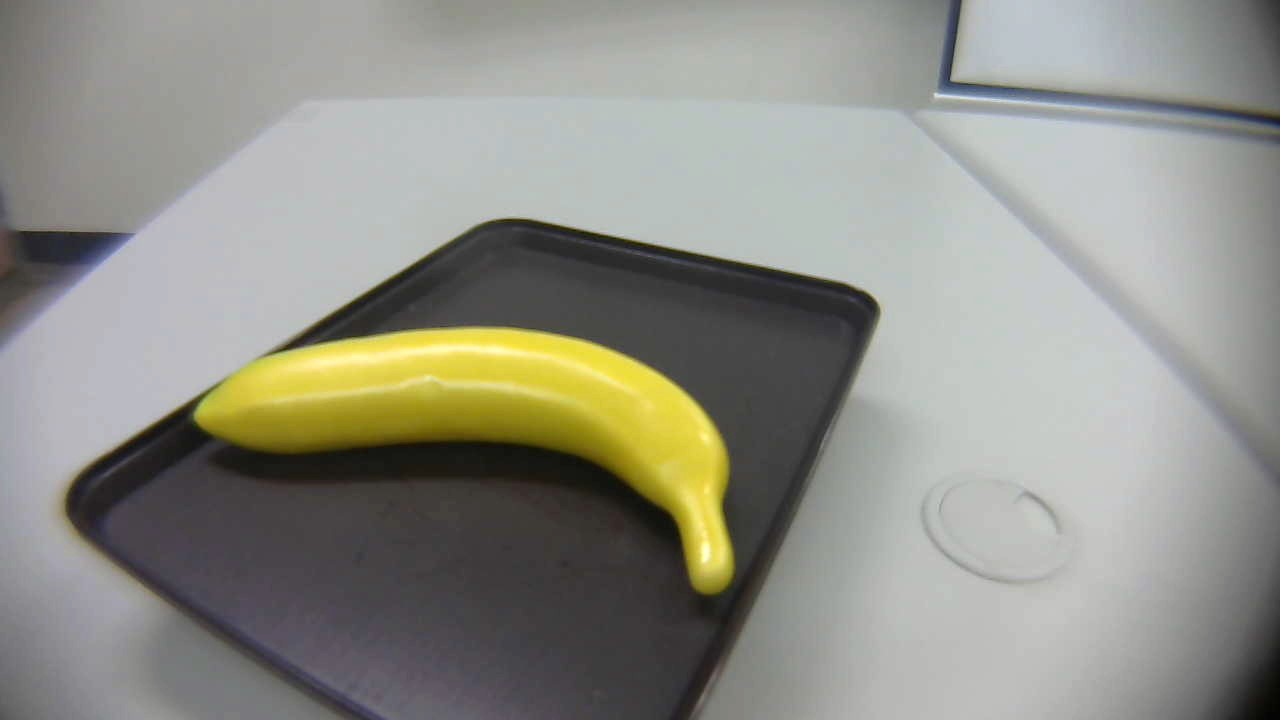banana: (181, 311, 764, 622)
